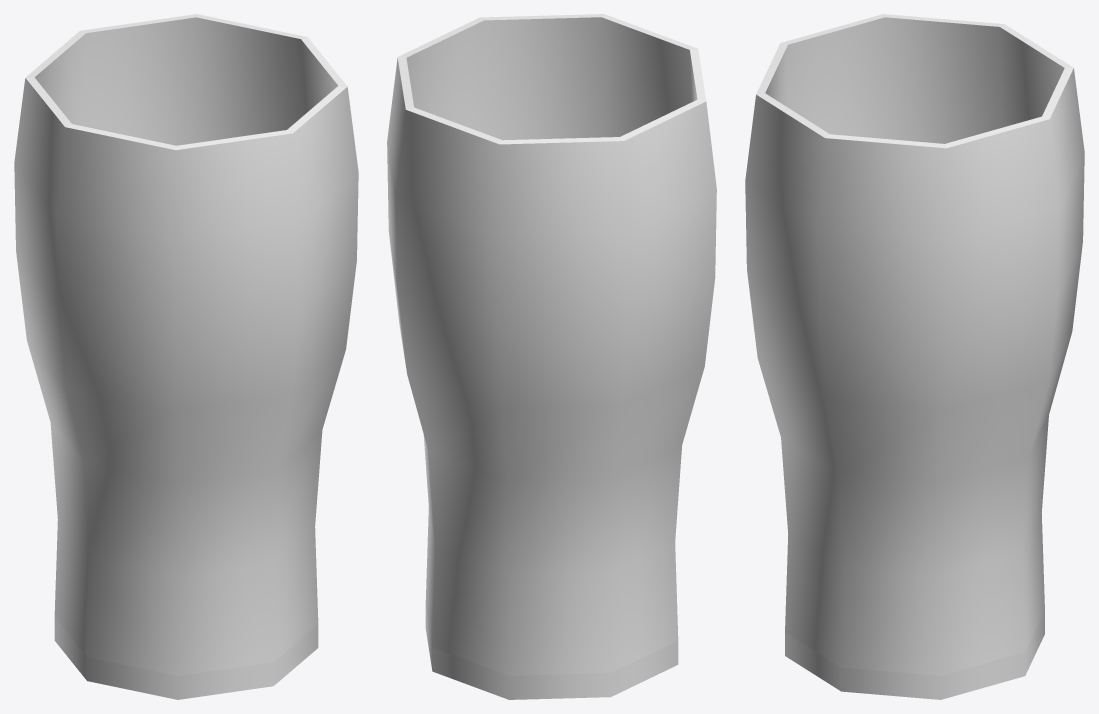
File: BeerGlassEmpty.FBX
3 renders of one model, left to right at view 1: azimuth 30°, elevation 25°; view 2: azimuth 150°, elevation 25°; view 3: azimuth 270°, elevation 25°, orthographic.
Parts seen in each view (by area): view 1: Cylinder215; view 2: Cylinder215; view 3: Cylinder215.
Part boxes in pixels (<box>): Cylinder215: <box>14,14,358,699</box>; Cylinder215: <box>387,14,716,699</box>; Cylinder215: <box>745,14,1084,699</box>.
Size of the model in its own units: 2.27 by 4.17 by 2.27.
Materials: 1 (1 with a texture image).
